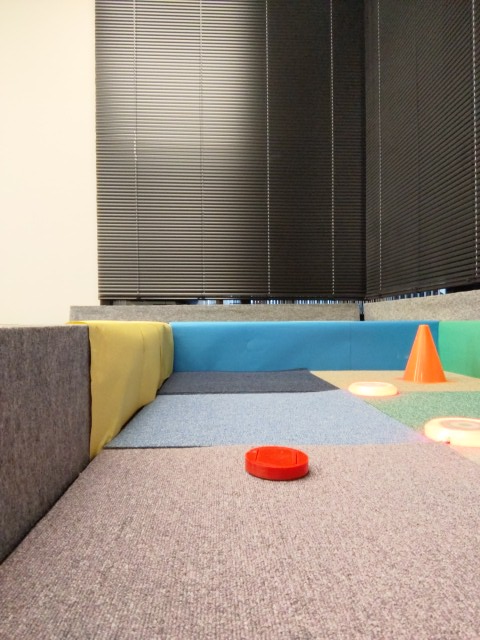r: (419, 416, 480, 446), (348, 376, 400, 402)
